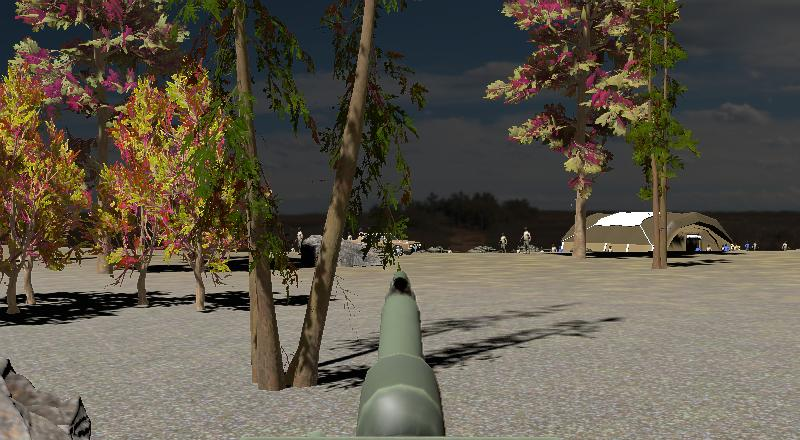Human: (519, 224, 533, 256), (499, 232, 511, 254), (720, 242, 731, 255), (721, 243, 731, 255)
car: (374, 232, 421, 257)
